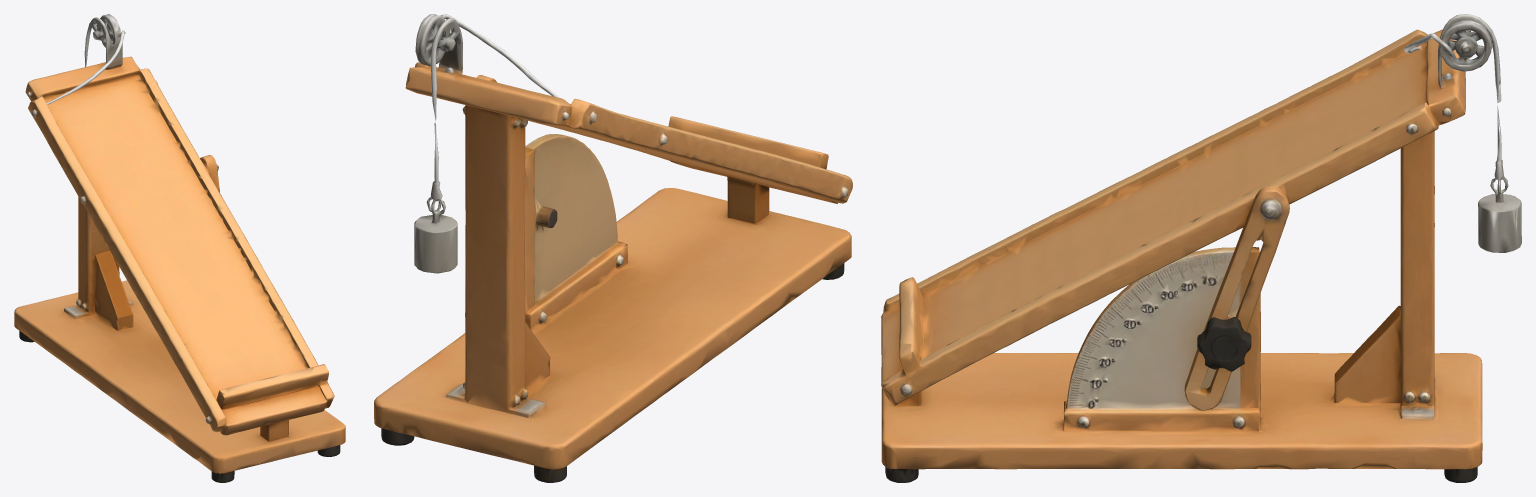
The model's file is inclined-plane.glb.
The picture shows the model from 3 angles, left to right: view 1: azimuth 30°, elevation 25°; view 2: azimuth 150°, elevation 25°; view 3: azimuth 270°, elevation 25°; orthographic projection. The views are drawn at different scales.
Parts seen in each view (by area): view 1: inclined-plane; view 2: inclined-plane; view 3: inclined-plane.
Part boxes in pixels (bbox=[...]): inclined-plane: bbox=[14, 14, 345, 482]; inclined-plane: bbox=[374, 14, 852, 482]; inclined-plane: bbox=[881, 14, 1521, 482].
Bounding box in the file's own units: 0.2258 × 0.4518 × 0.6.
1 material, 1 textured.
